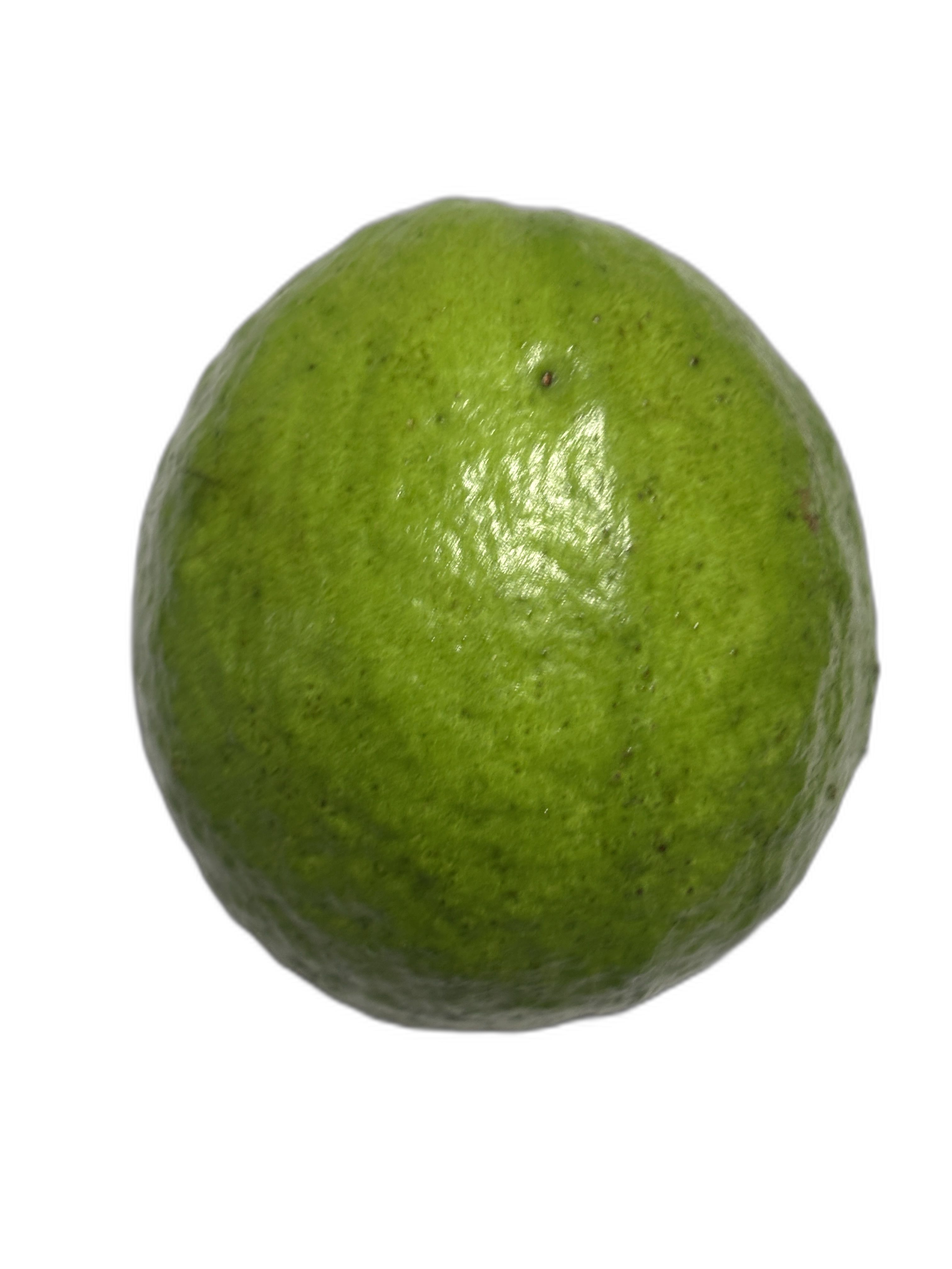guava: (110, 255, 927, 1093)
